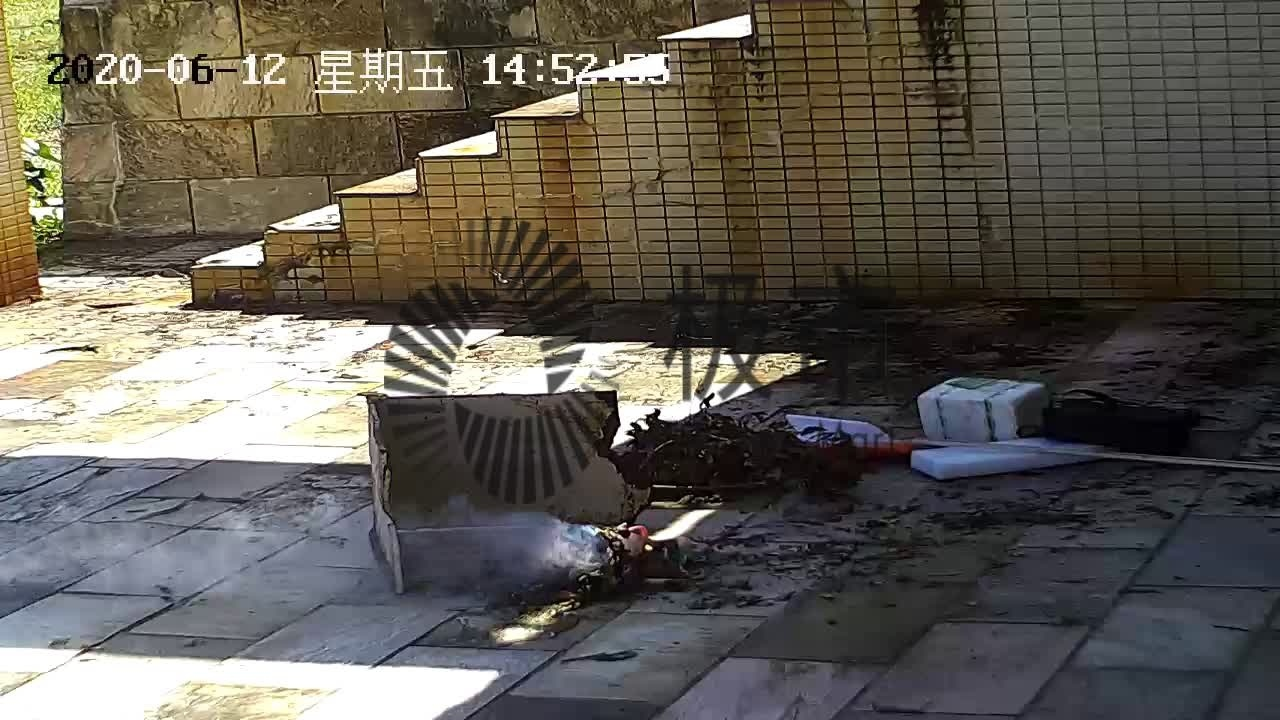fire: (494, 585, 571, 642)
